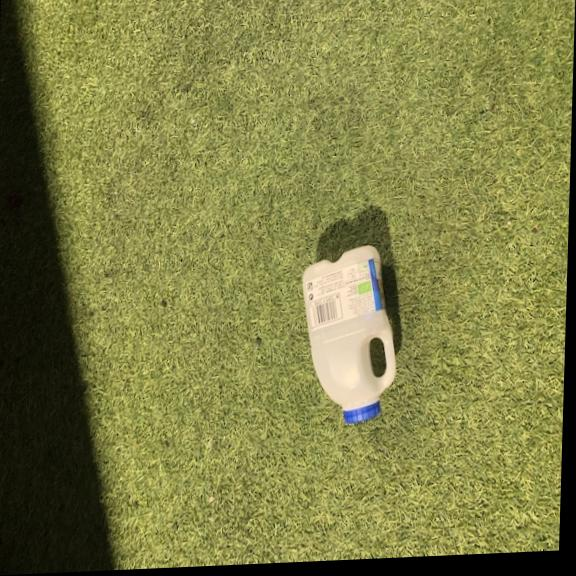Plastik: (293, 237, 405, 433)
